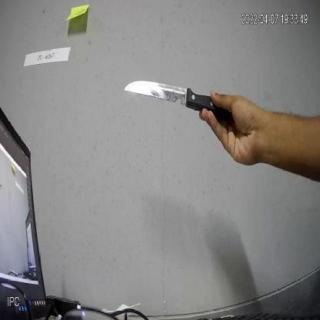knife: (123, 77, 241, 131)
